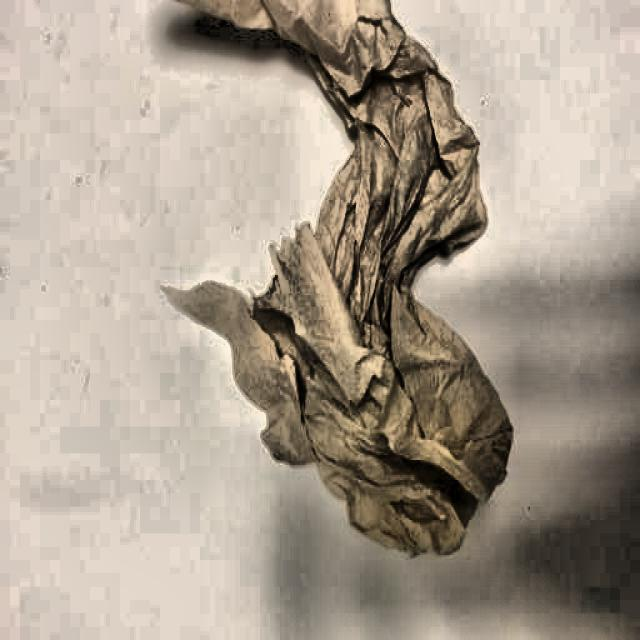trash: (186, 2, 508, 544)
